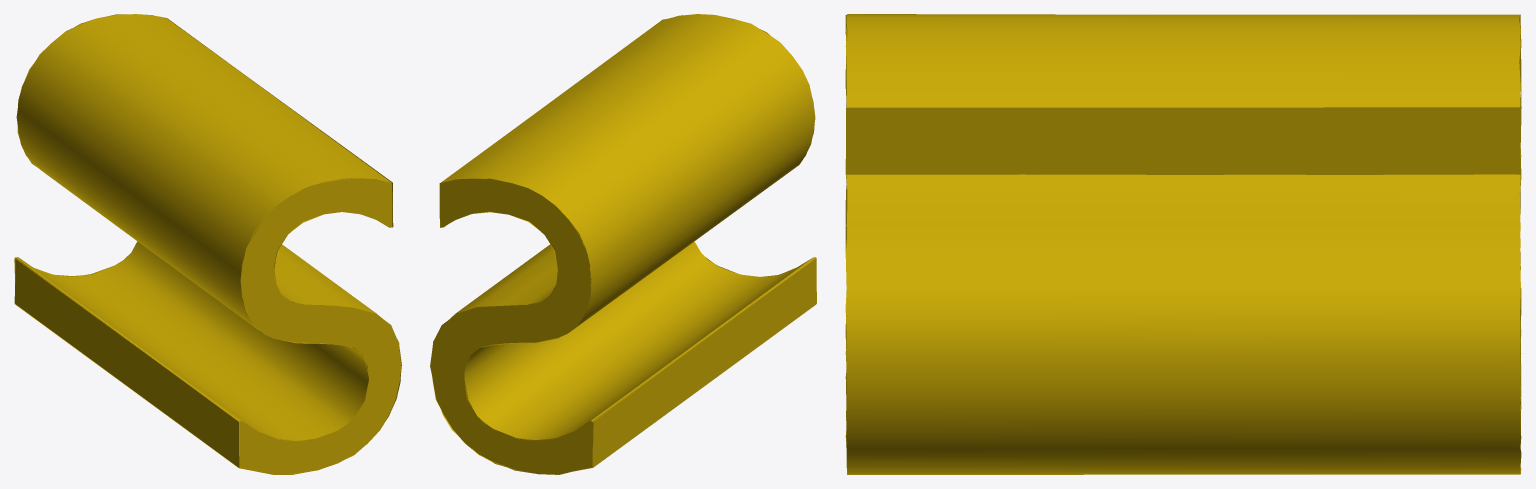
Rendered from original_1.obj.
The picture shows the model from 3 angles, left to right: view 1: azimuth 30°, elevation 25°; view 2: azimuth 150°, elevation 25°; view 3: azimuth 270°, elevation 25°; orthographic projection. The views are drawn at different scales.
Parts seen in each view (by area): view 1: #ID5; view 2: #ID5; view 3: #ID5.
Boxes of the visible parts, bbox=[...] form: #ID5: bbox=[14, 14, 401, 474]; #ID5: bbox=[430, 14, 816, 474]; #ID5: bbox=[845, 14, 1521, 474].
Bounding box in the file's own units: 0.0326 × 0.0547 × 0.0775.
